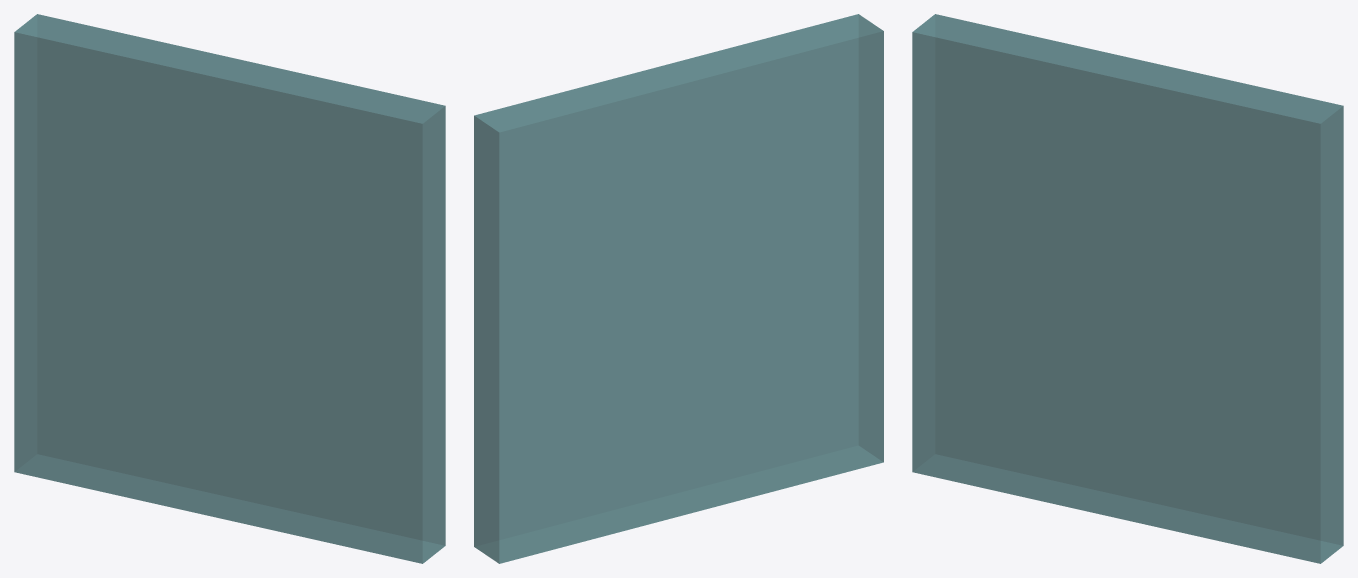
3 renders of one model, left to right at view 1: azimuth 90°, elevation 25°; view 2: azimuth 150°, elevation 25°; view 3: azimuth 270°, elevation 25°, orthographic. The views are drawn at different scales.
Visible parts, largest first — view 1: B-GF-BCA; view 2: B-GF-BCA; view 3: B-GF-BCA.
Part boxes in pixels (left/top/right/bottom): B-GF-BCA: left=14, top=14, right=445, bottom=563; B-GF-BCA: left=474, top=14, right=883, bottom=563; B-GF-BCA: left=912, top=14, right=1343, bottom=563.
Size of the model in its own units: 1.12 by 2.1 by 1.86.
